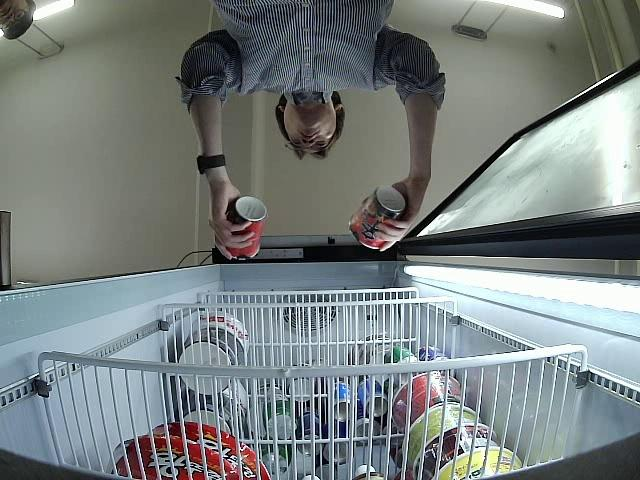00_hand: (363, 178, 423, 254), (208, 185, 257, 259)
02_shinRamen_S: (349, 187, 406, 251), (215, 196, 267, 260)
